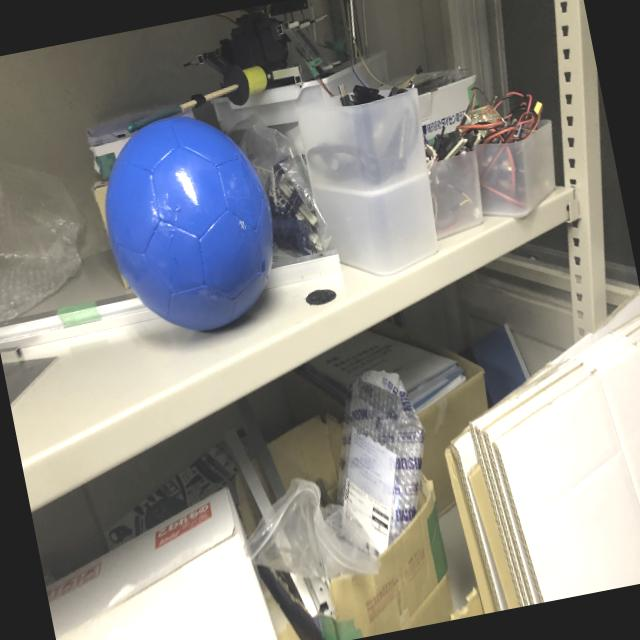blue_ball: (90, 101, 292, 348)
